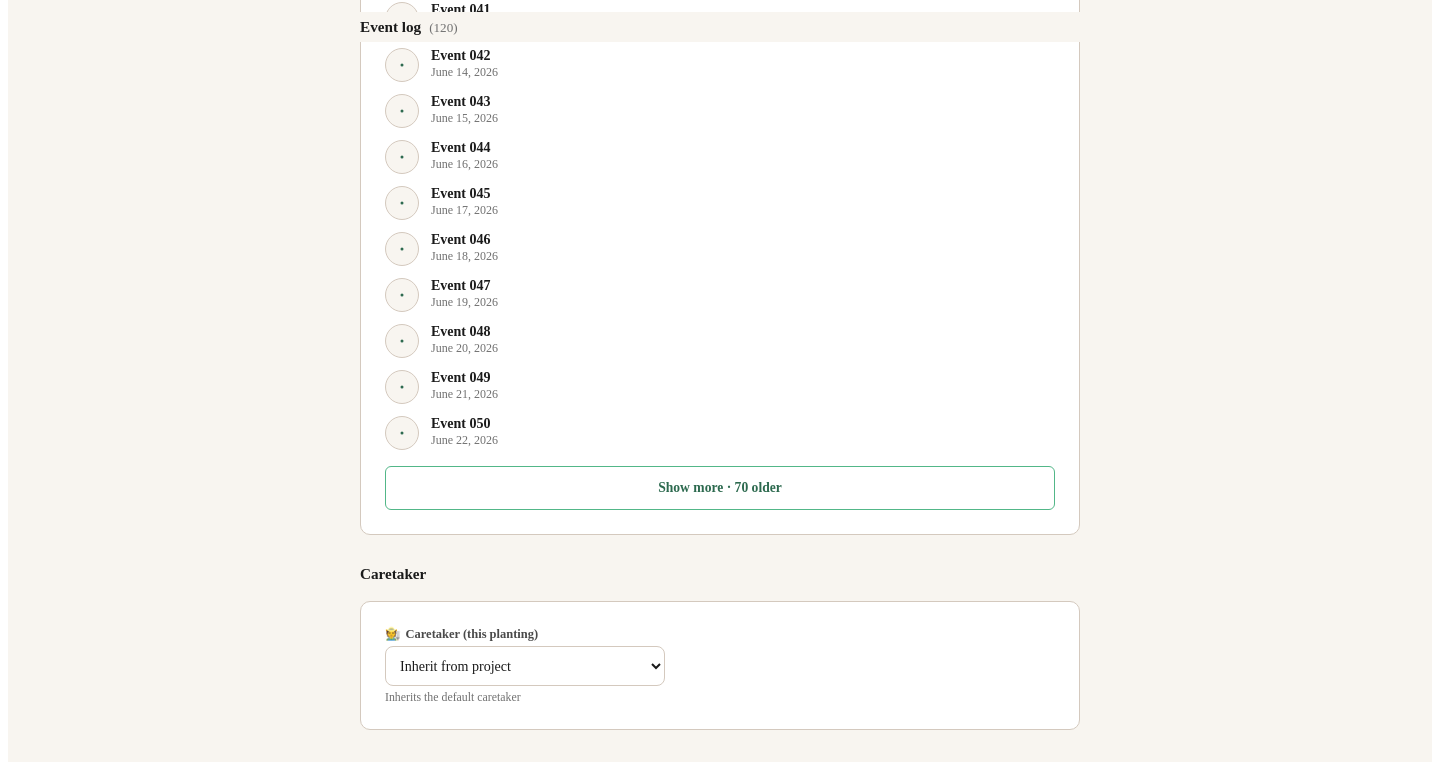
PlantingDetail event log — raise-and-page (V4-EVENTHISTPAGE-001) › retires the control once the whole history is on screen
This screenshot has width=1440, height=770.
(page scrolled)
Click the button with test id "event-log-show-more" at (720, 488), box [385, 466, 1055, 510]
(page scrolled)
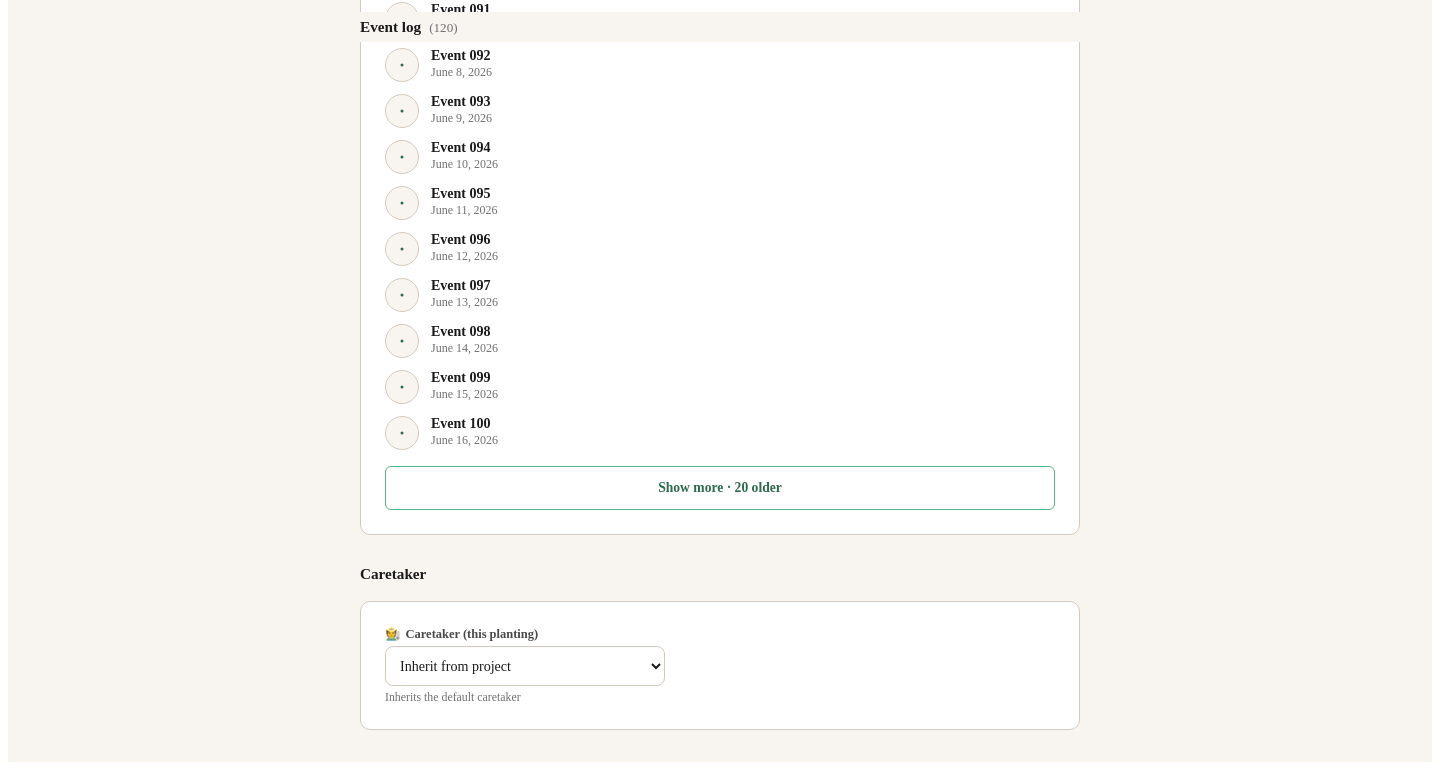
Click the button with test id "event-log-show-more" at (720, 488), box [385, 466, 1055, 510]
(page scrolled)
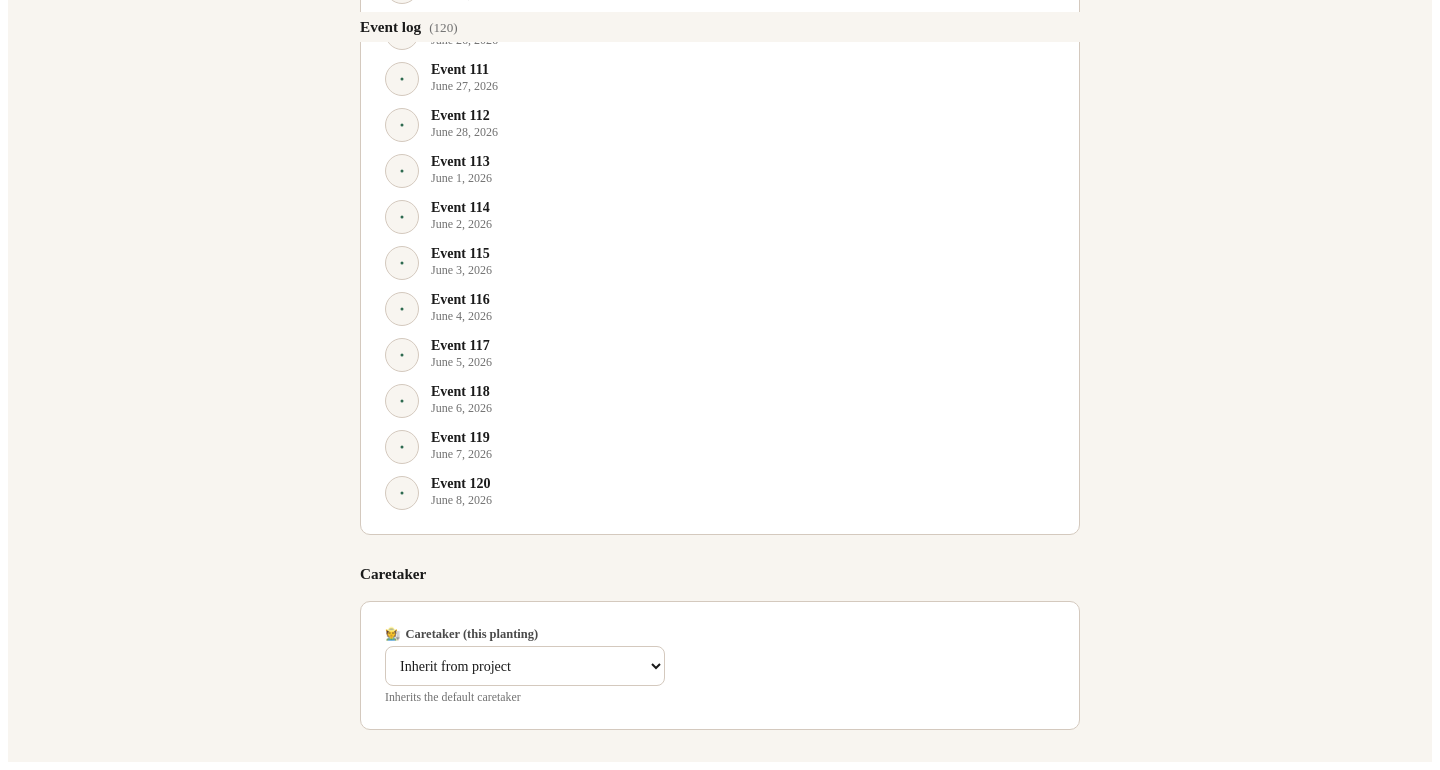
Expected: the text "Event 120" is shown, [431, 476, 490, 491]
Expected: the button with test id "event-log-show-more" is gone
